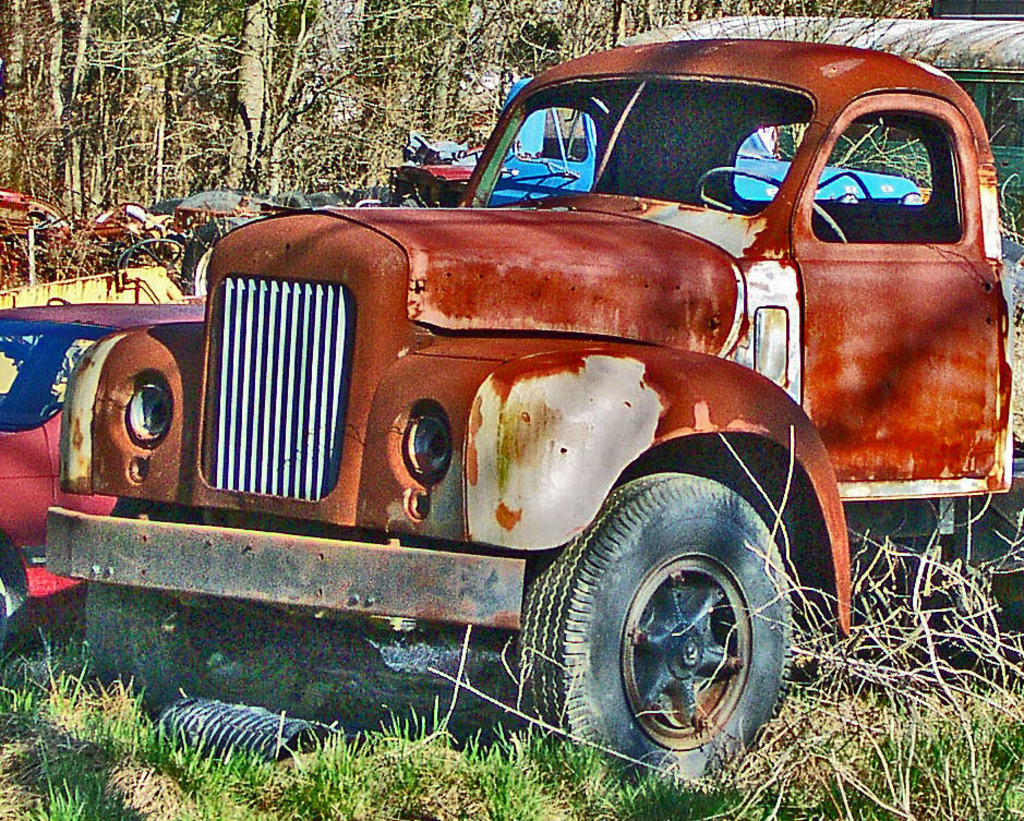Car: (46, 41, 1022, 781)
